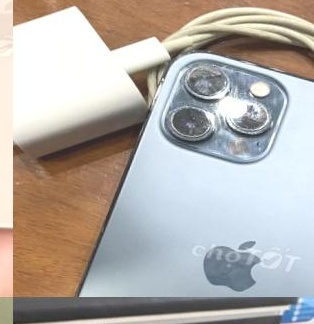scratch: (155, 37, 293, 176)
